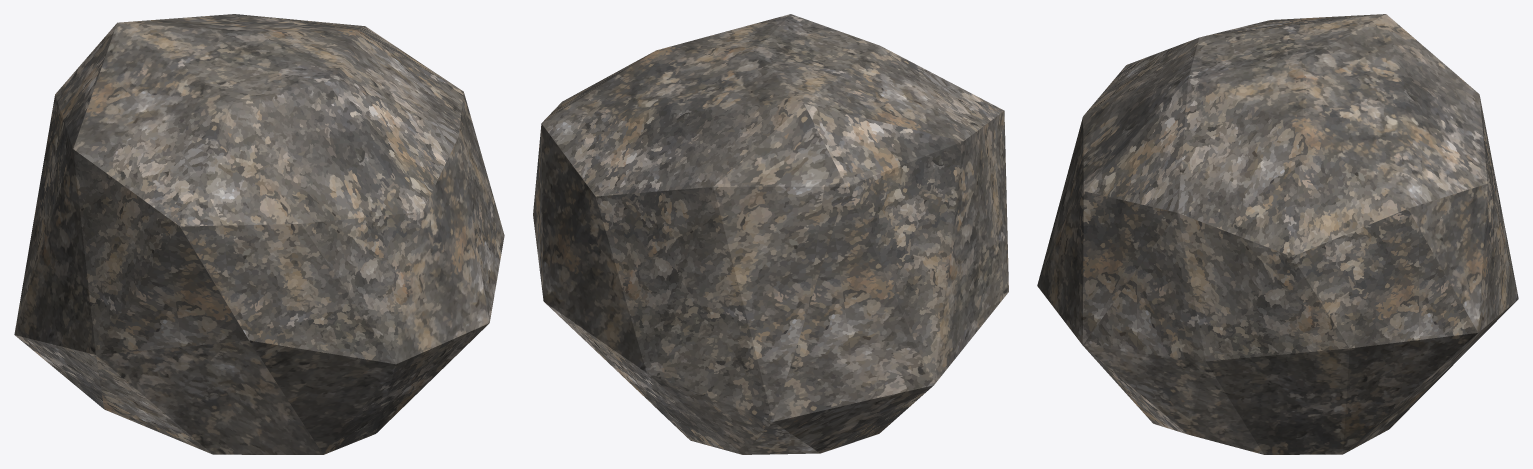
Rendered from Rock A.fbx.
The picture shows the model from 3 angles, left to right: view 1: azimuth 30°, elevation 25°; view 2: azimuth 150°, elevation 25°; view 3: azimuth 270°, elevation 25°; orthographic projection. The views are drawn at different scales.
Visible parts, largest first — view 1: Icosphere; view 2: Icosphere; view 3: Icosphere.
Boxes of the visible parts, x1,y1,x2,y2 form: Icosphere: [14, 14, 504, 454]; Icosphere: [533, 14, 1008, 454]; Icosphere: [1037, 14, 1518, 454].
Size of the model in its own units: 247 by 220 by 256.
Materials: 1 (1 with a texture image).
